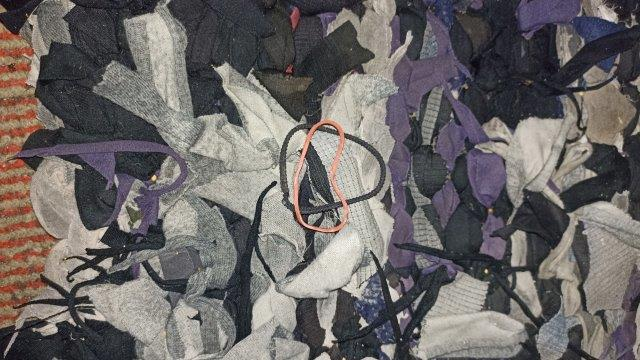karet: (280, 120, 386, 234)
